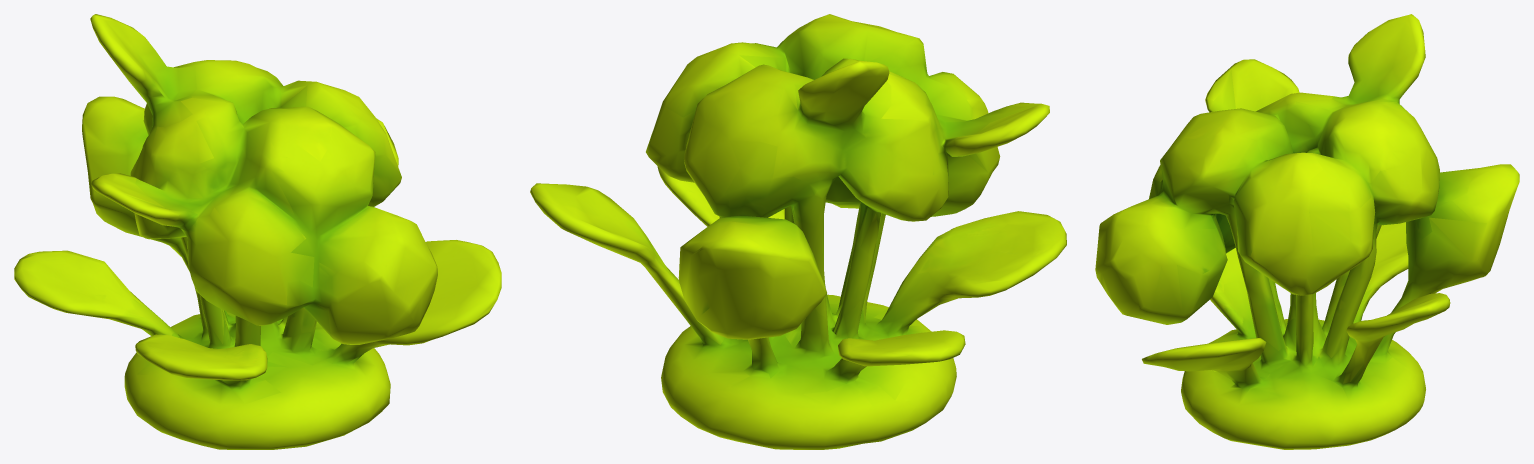
The model's file is prop-algae.glb.
3 renders of one model, left to right at view 1: azimuth 30°, elevation 25°; view 2: azimuth 150°, elevation 25°; view 3: azimuth 270°, elevation 25°, orthographic. The views are drawn at different scales.
Parts seen in each view (by area): view 1: prop-algae_Mesh; view 2: prop-algae_Mesh; view 3: prop-algae_Mesh.
Part boxes in pixels (box(x1,y1,x2,y2)): prop-algae_Mesh: box(14, 14, 501, 449); prop-algae_Mesh: box(530, 14, 1066, 449); prop-algae_Mesh: box(1095, 14, 1519, 449).
Size of the model in its own units: 1.51 by 1.43 by 1.6.
1 material, 1 textured.
